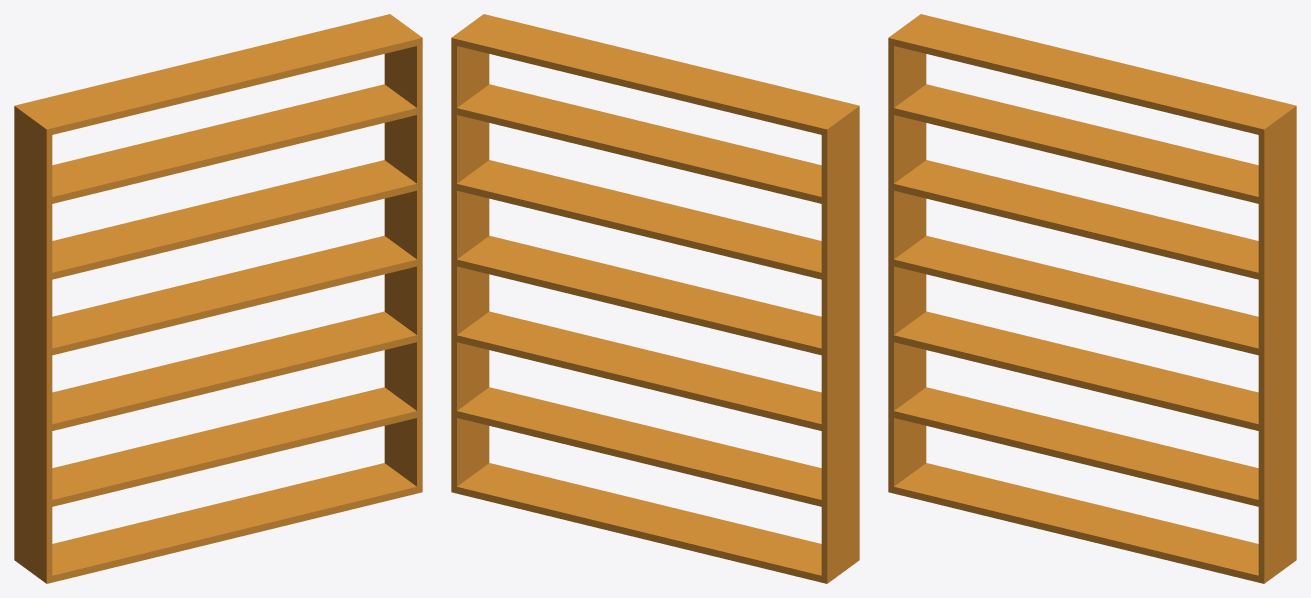
Rendered from Shelves.FBX.
3 views of the same model, side by side, from view 1: azimuth 30°, elevation 25°; view 2: azimuth 150°, elevation 25°; view 3: azimuth 330°, elevation 25° (orthographic).
Parts seen in each view (by area): view 1: Shevles; view 2: Shevles; view 3: Shevles.
Part boxes in pixels (<box>): Shevles: <box>14,14,422,583</box>; Shevles: <box>451,14,859,583</box>; Shevles: <box>888,14,1296,583</box>.
Bounding box in the file's own units: 78.74 × 90.94 × 11.81.
